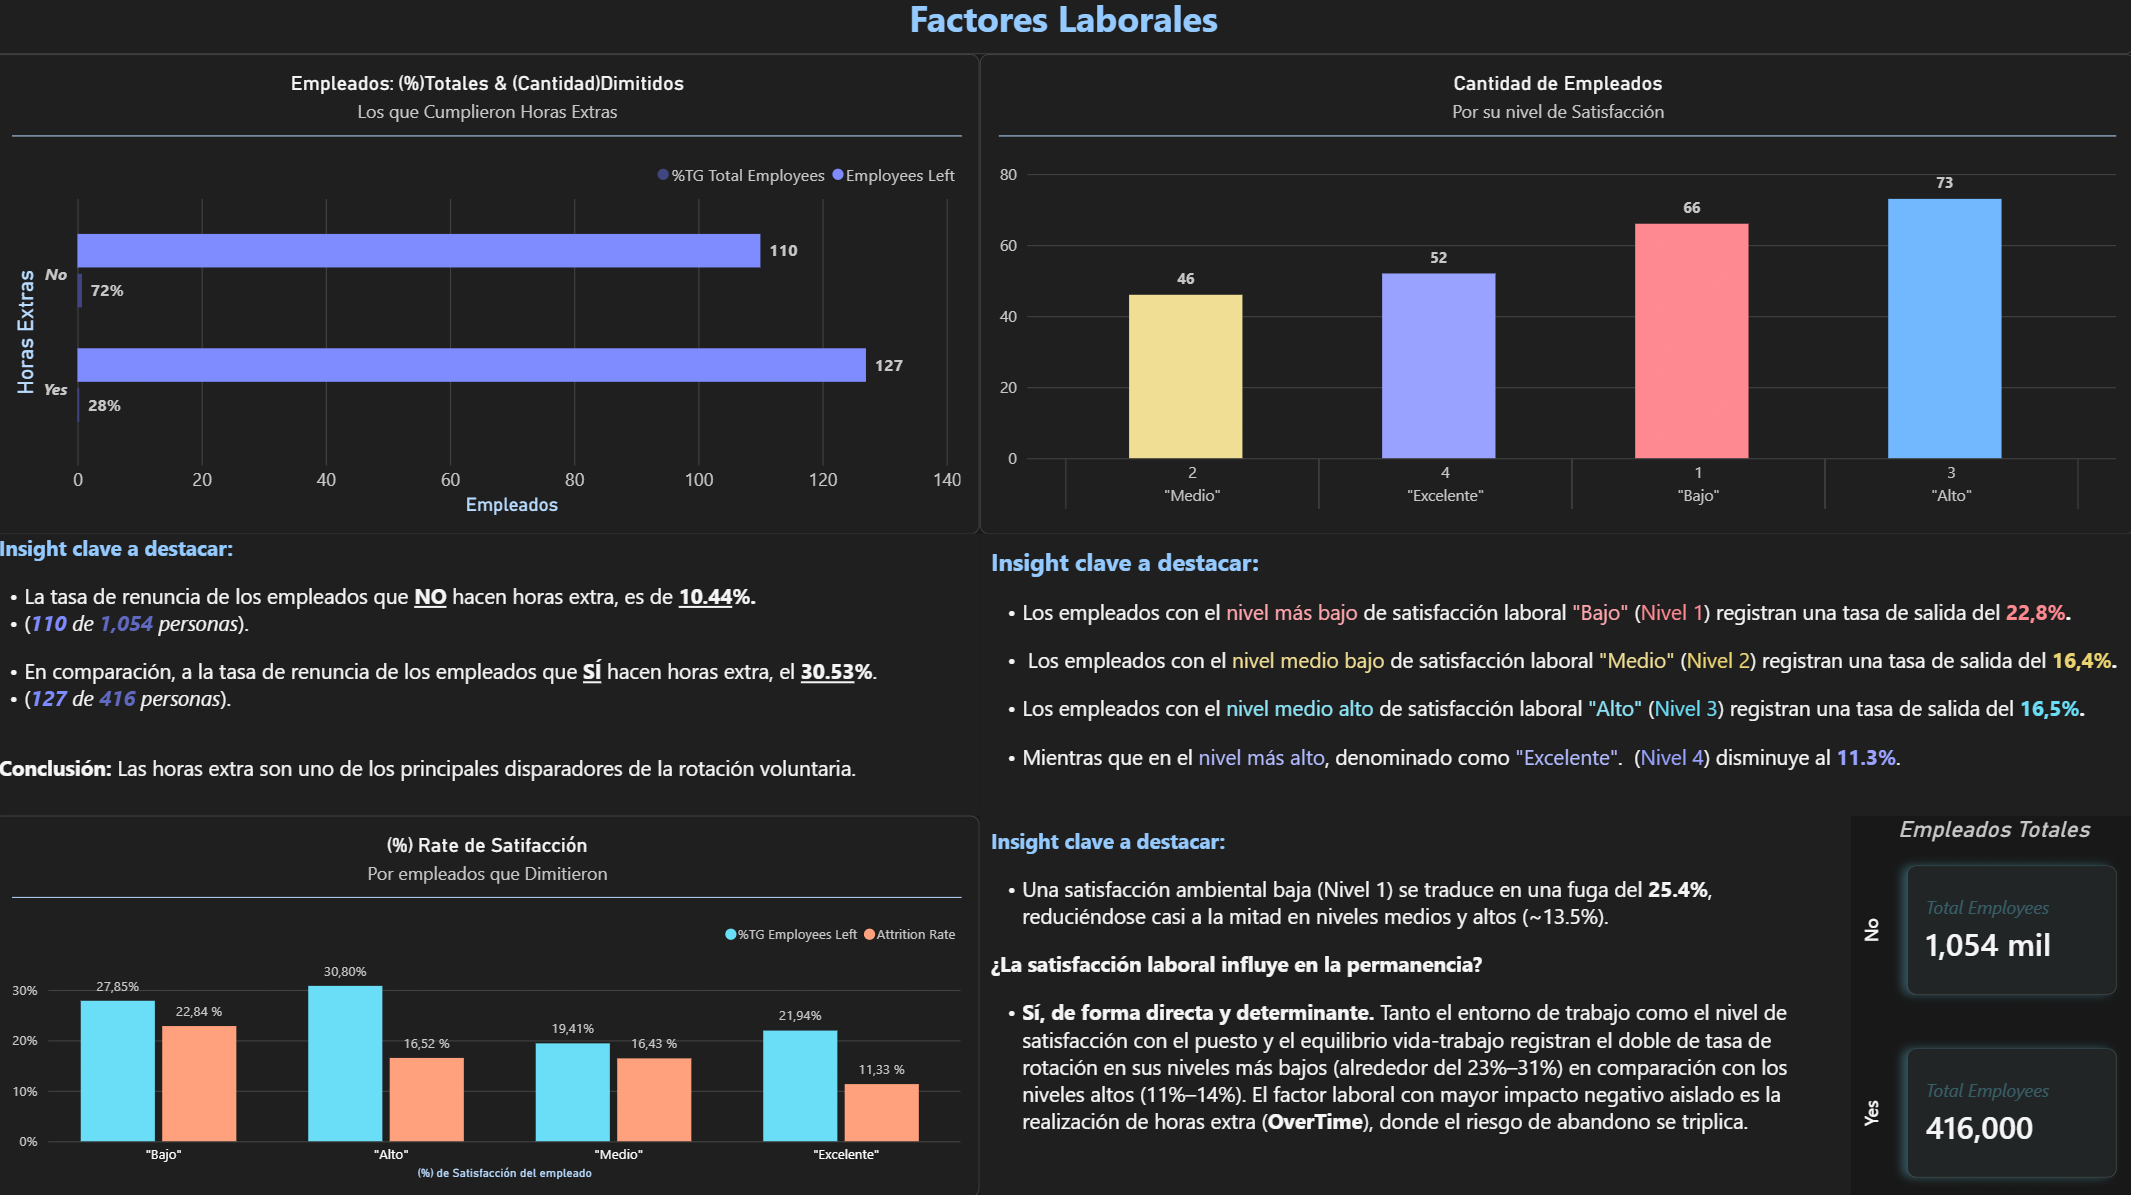

What the dashboard file says about the page in this screenshot:
{"tool":"powerbi","page":{"name":"Factores Laborales","canvas":[1920,1080],"ordinal":3},"visuals":[{"type":"textbox","box":[0,0,1920,54.7],"z":0},{"type":"clusteredBarChart","title":"Empleados: (%)Totales & (Cantidad)Dimitidos","fields":{"Category":["Employees.OverTime"],"Y":["Employees.Total Employees","Employees.Employees Left"]},"box":[0,54.8,885,430.9],"z":1000},{"type":"textbox","box":[0,484.6,885,252.9],"z":2000},{"type":"clusteredColumnChart","title":"Cantidad de Empleados","fields":{"Category":["Employees.Satisfacción","Employees.JobSatisfaction"],"Y":["Employees.Employees Left"]},"box":[885,54.8,1035.7,430.9],"z":3000},{"type":"textbox","box":[885,484.6,1035.7,252.9],"z":4000},{"type":"clusteredColumnChart","title":"(%) Rate de Satifacción","fields":{"Category":["Employees.Satisfacción","Employees.EnvironmentSatisfaction"],"Y":["Employees.Employees Left","Employees.Attrition Rate"]},"box":[0,737.5,885,342.4],"z":5000},{"type":"textbox","box":[885,737.5,780.7,341.4],"z":6000},{"type":"cardVisual","fields":{"Data":["Employees.Total Employees"],"Rows":["Employees.OverTime"]},"box":[1666.8,737.5,253.9,342.4],"z":7000}]}

Visuals, with their boxes in screenshot pixels (x1, y1, x2, y2), scaled from the page's 1920x1080 canvas onto the 2131x1195 screenshot:
textbox: box=[0, 0, 2130, 61]
"Empleados: (%)Totales & (Cantidad)Dimitidos" clusteredBarChart: box=[0, 61, 982, 537]
textbox: box=[0, 536, 982, 816]
"Cantidad de Empleados" clusteredColumnChart: box=[982, 61, 2130, 537]
textbox: box=[982, 536, 2130, 816]
"(%) Rate de Satifacción" clusteredColumnChart: box=[0, 816, 982, 1194]
textbox: box=[982, 816, 1849, 1194]
cardVisual - Employees.Total Employees x Employees.OverTime: box=[1850, 816, 2130, 1194]
